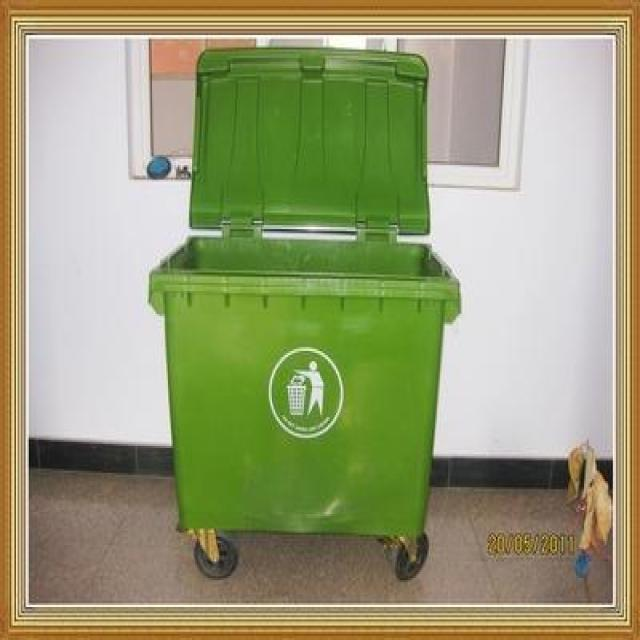garbage_bin: (147, 233, 459, 531)
